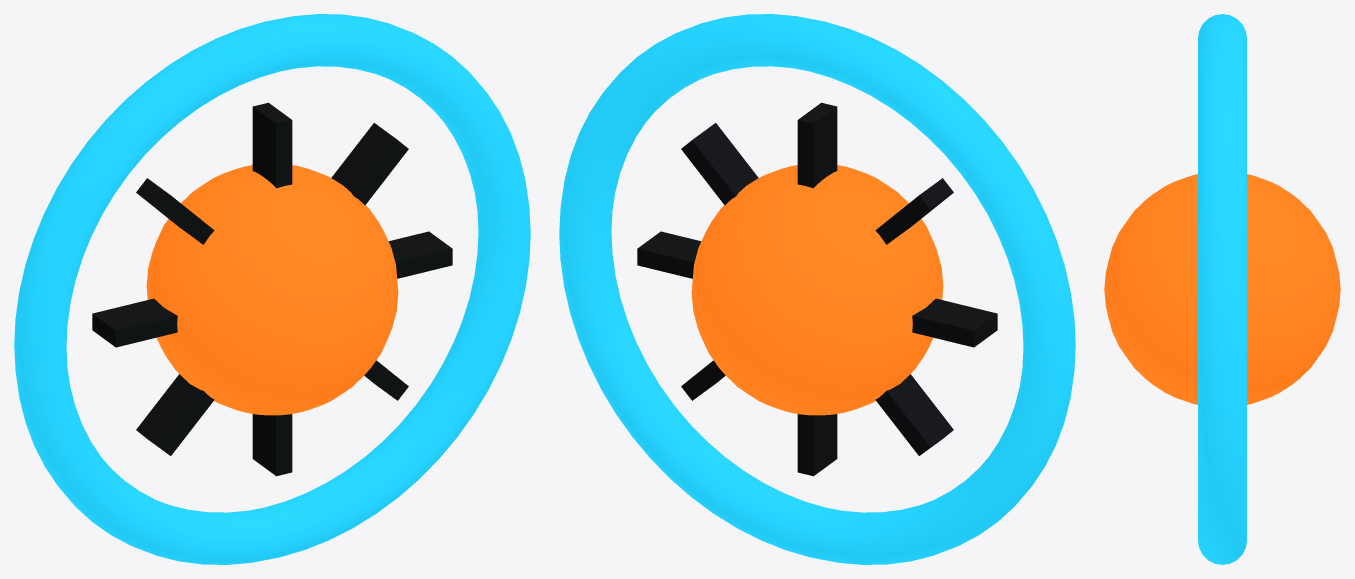
File: drone_mk2.glb
3 renders of one model, left to right at view 1: azimuth 30°, elevation 25°; view 2: azimuth 150°, elevation 25°; view 3: azimuth 270°, elevation 25°, orthographic. The views are drawn at different scales.
Parts seen in each view (by area): view 1: Ring, Core, Fin_45, Fin_90, Fin_0, Fin_-45; view 2: Ring, Core, Fin_45, Fin_90, Fin_0, Fin_-45; view 3: Core, Ring.
Part boxes in pixels (box(x1,y1,x2,y2)): Ring: box(14, 14, 530, 564); Core: box(146, 165, 398, 415); Fin_45: box(136, 123, 408, 455); Fin_90: box(252, 102, 292, 476); Fin_0: box(92, 231, 452, 347); Fin_-45: box(136, 178, 408, 400); Ring: box(559, 14, 1075, 564); Core: box(691, 165, 943, 415); Fin_45: box(681, 123, 953, 455); Fin_90: box(797, 102, 837, 476); Fin_0: box(637, 231, 997, 347); Fin_-45: box(681, 178, 953, 400); Core: box(1104, 174, 1340, 404); Ring: box(1198, 14, 1246, 564).
Bounding box in the file's own units: 1.12 × 1.12 × 0.48.
